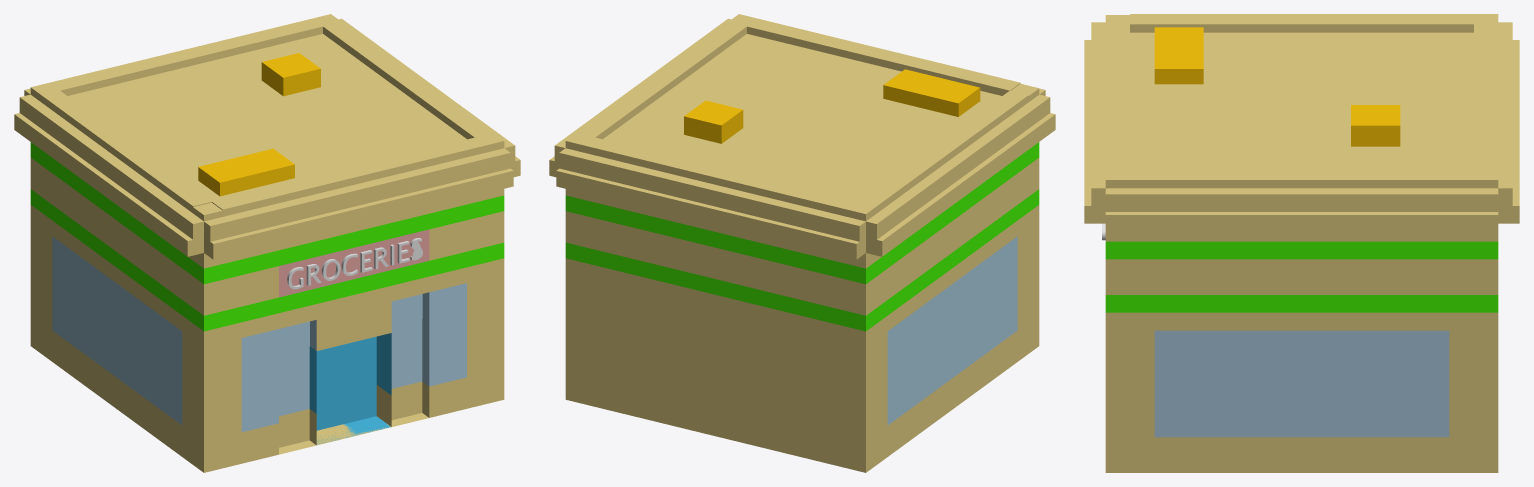
Rendered from greenShop.fbx.
3 renders of one model, left to right at view 1: azimuth 30°, elevation 25°; view 2: azimuth 150°, elevation 25°; view 3: azimuth 270°, elevation 25°, orthographic. The views are drawn at different scales.
Parts seen in each view (by area): view 1: Shop, grocerySigns; view 2: Shop; view 3: Shop.
Boxes of the visible parts, x1,y1,x2,y2 form: Shop: [14, 14, 520, 472]; grocerySigns: [287, 238, 422, 289]; Shop: [549, 14, 1055, 472]; Shop: [1084, 14, 1519, 472].
Size of the model in its own units: 11.08 by 8.59 by 11.08.
